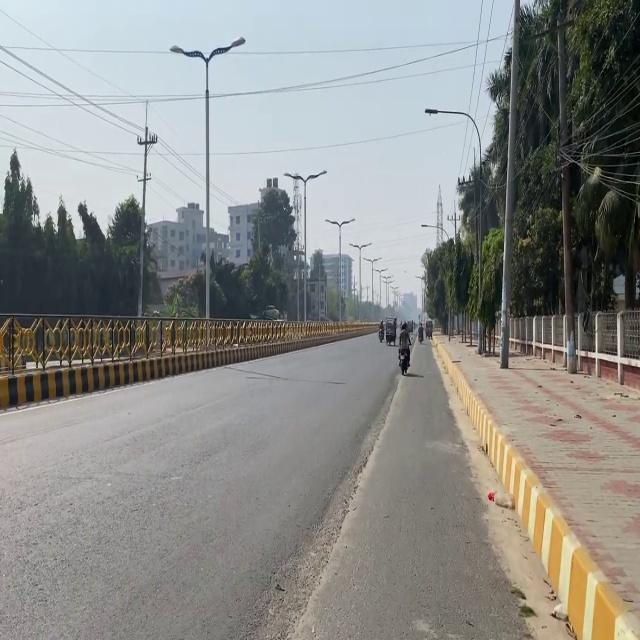Construction-barrier: (287, 365, 403, 637), (526, 456, 626, 638)
Fallen-tree: (397, 342, 412, 375)
Light-pole: (554, 9, 577, 372), (498, 0, 520, 368)
Pole: (0, 302, 246, 418)
Pothole: (432, 332, 639, 638)
